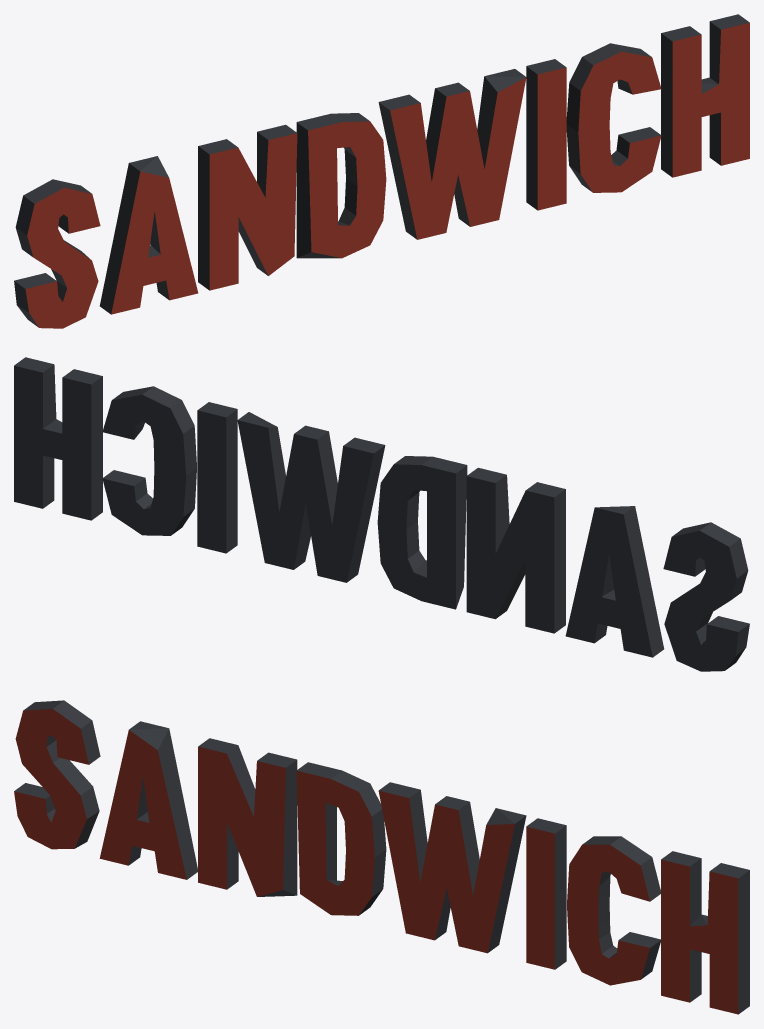
The model's file is SM_Sign_3dText_Sandwich_01.obj.
The picture shows the model from 3 angles, top to bottom: view 1: azimuth 30°, elevation 25°; view 2: azimuth 150°, elevation 25°; view 3: azimuth 330°, elevation 25°; orthographic projection.
Visible parts, largest first — view 1: SM_Sign_3dText_Sandwich_01_0; view 2: SM_Sign_3dText_Sandwich_01_0; view 3: SM_Sign_3dText_Sandwich_01_0.
Boxes of the visible parts, <box> form: SM_Sign_3dText_Sandwich_01_0: <box>14,14,749,328</box>; SM_Sign_3dText_Sandwich_01_0: <box>14,357,749,671</box>; SM_Sign_3dText_Sandwich_01_0: <box>14,700,749,1014</box>.
Size of the model in its own units: 3.97 by 0.7379 by 0.1093.
Materials: 1 (1 with a texture image).
